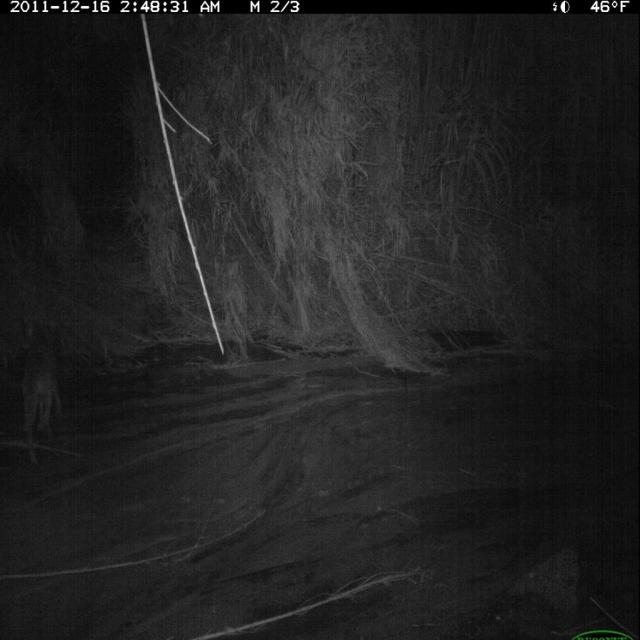coyote: (20, 312, 61, 470)
